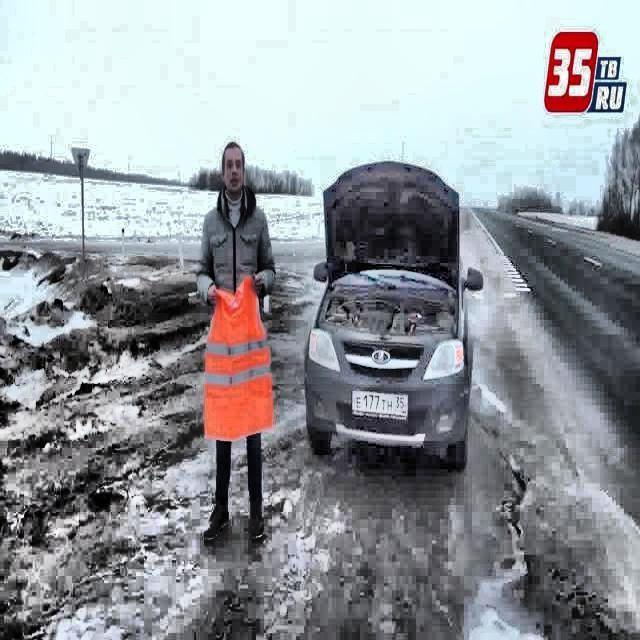safety_jacket: (203, 272, 275, 447)
